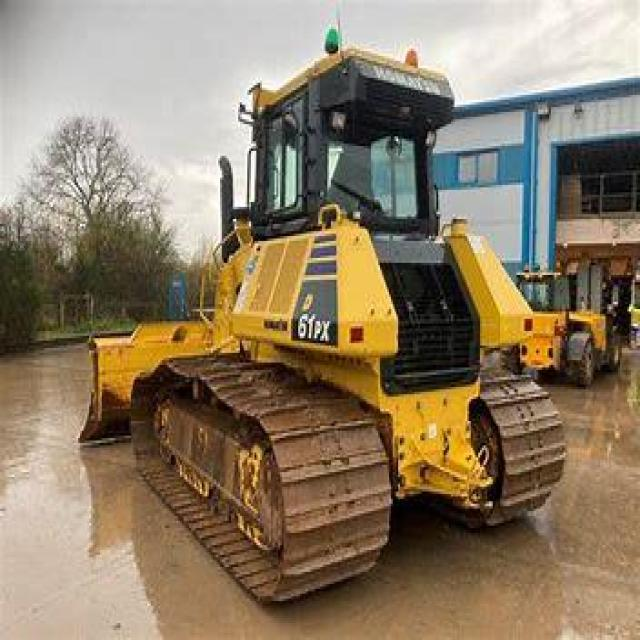buldozerpayloadergrader: (64, 31, 600, 604)
